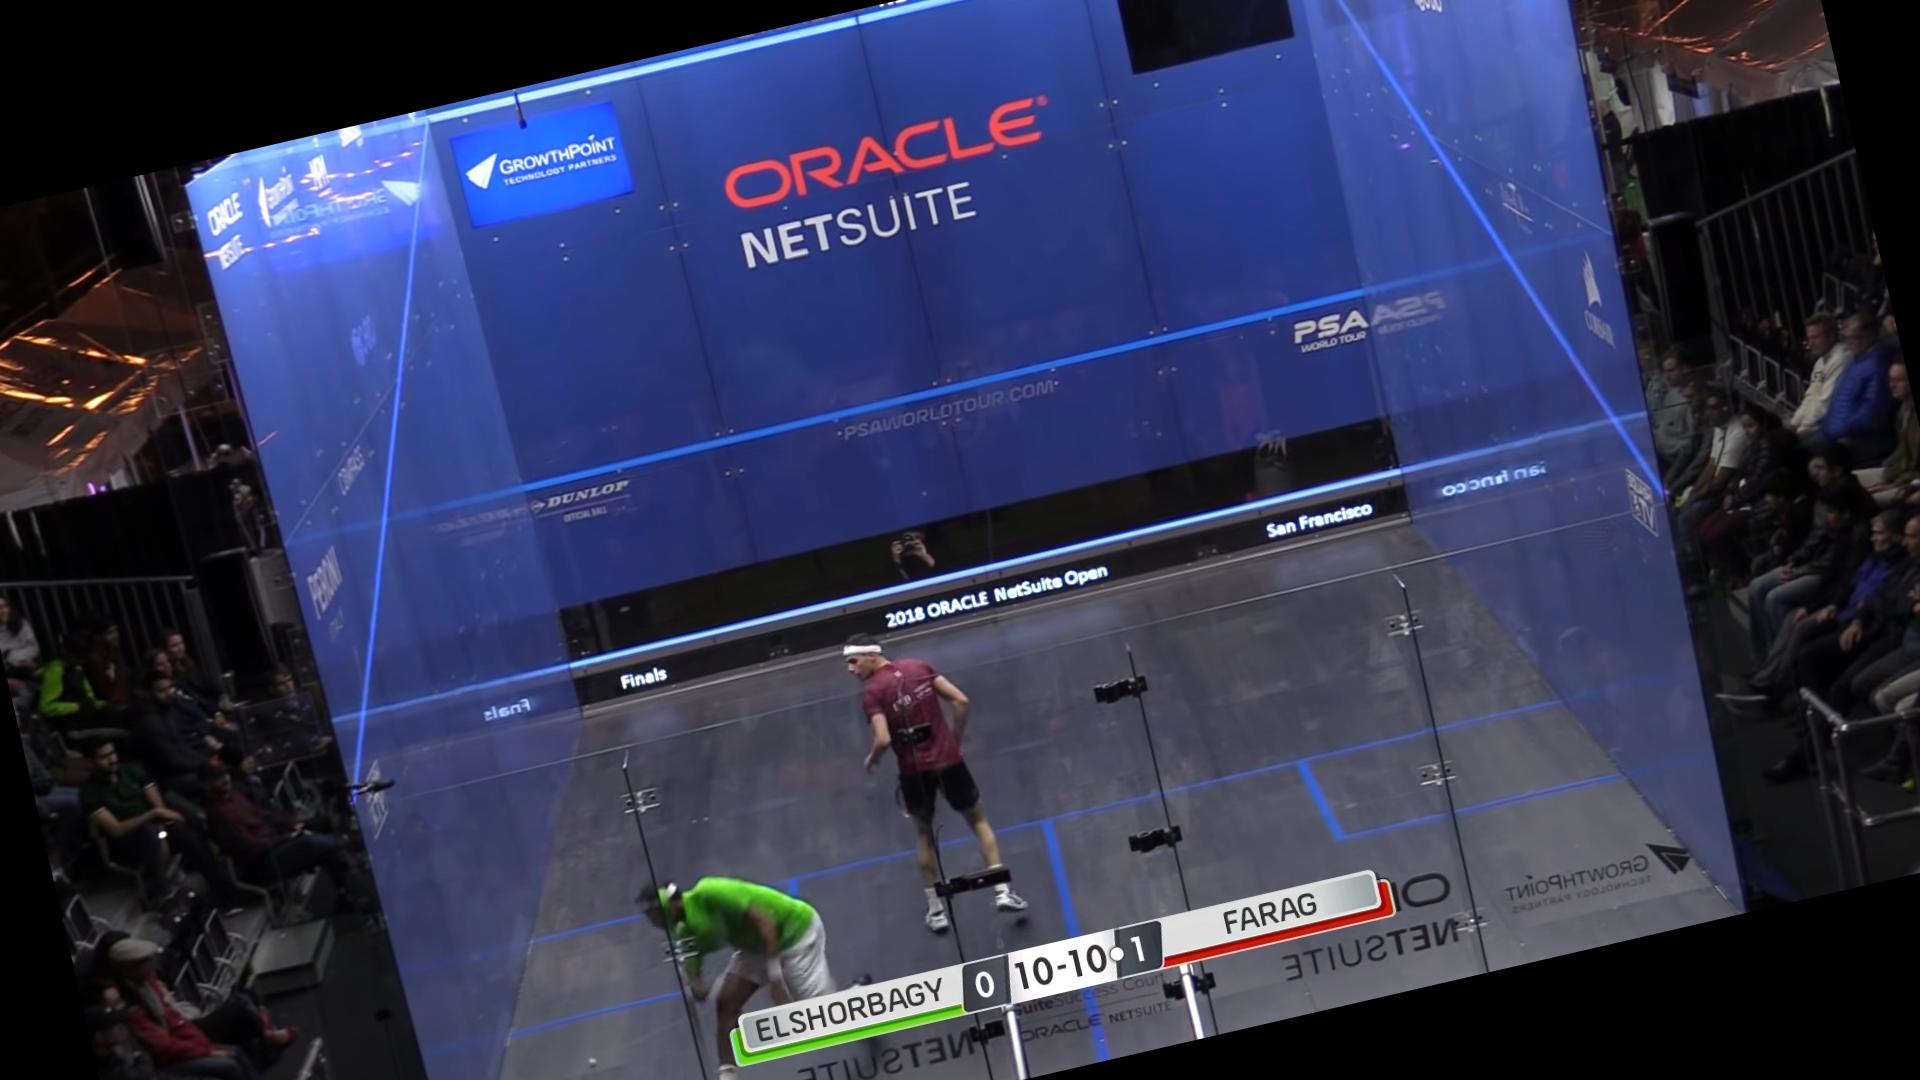Squash-Ball: (579, 1047, 608, 1080)
